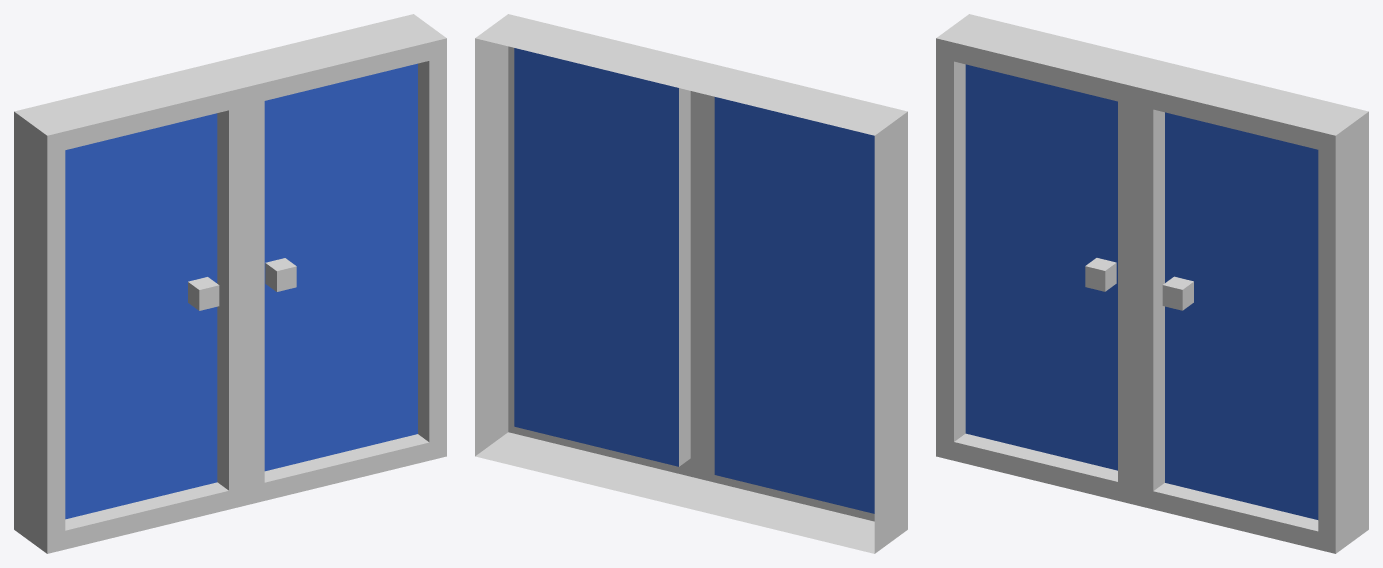
Rendered from drzwi.fbx.
3 renders of one model, left to right at view 1: azimuth 30°, elevation 25°; view 2: azimuth 150°, elevation 25°; view 3: azimuth 330°, elevation 25°, orthographic.
Visible parts, largest first — view 1: Cube.021; view 2: Cube.021; view 3: Cube.021.
Part boxes in pixels (x1,y1,x2,y2): Cube.021: [14, 14, 446, 553]; Cube.021: [475, 14, 907, 553]; Cube.021: [936, 14, 1368, 553].
Size of the model in its own units: 200 by 200 by 30.07.
